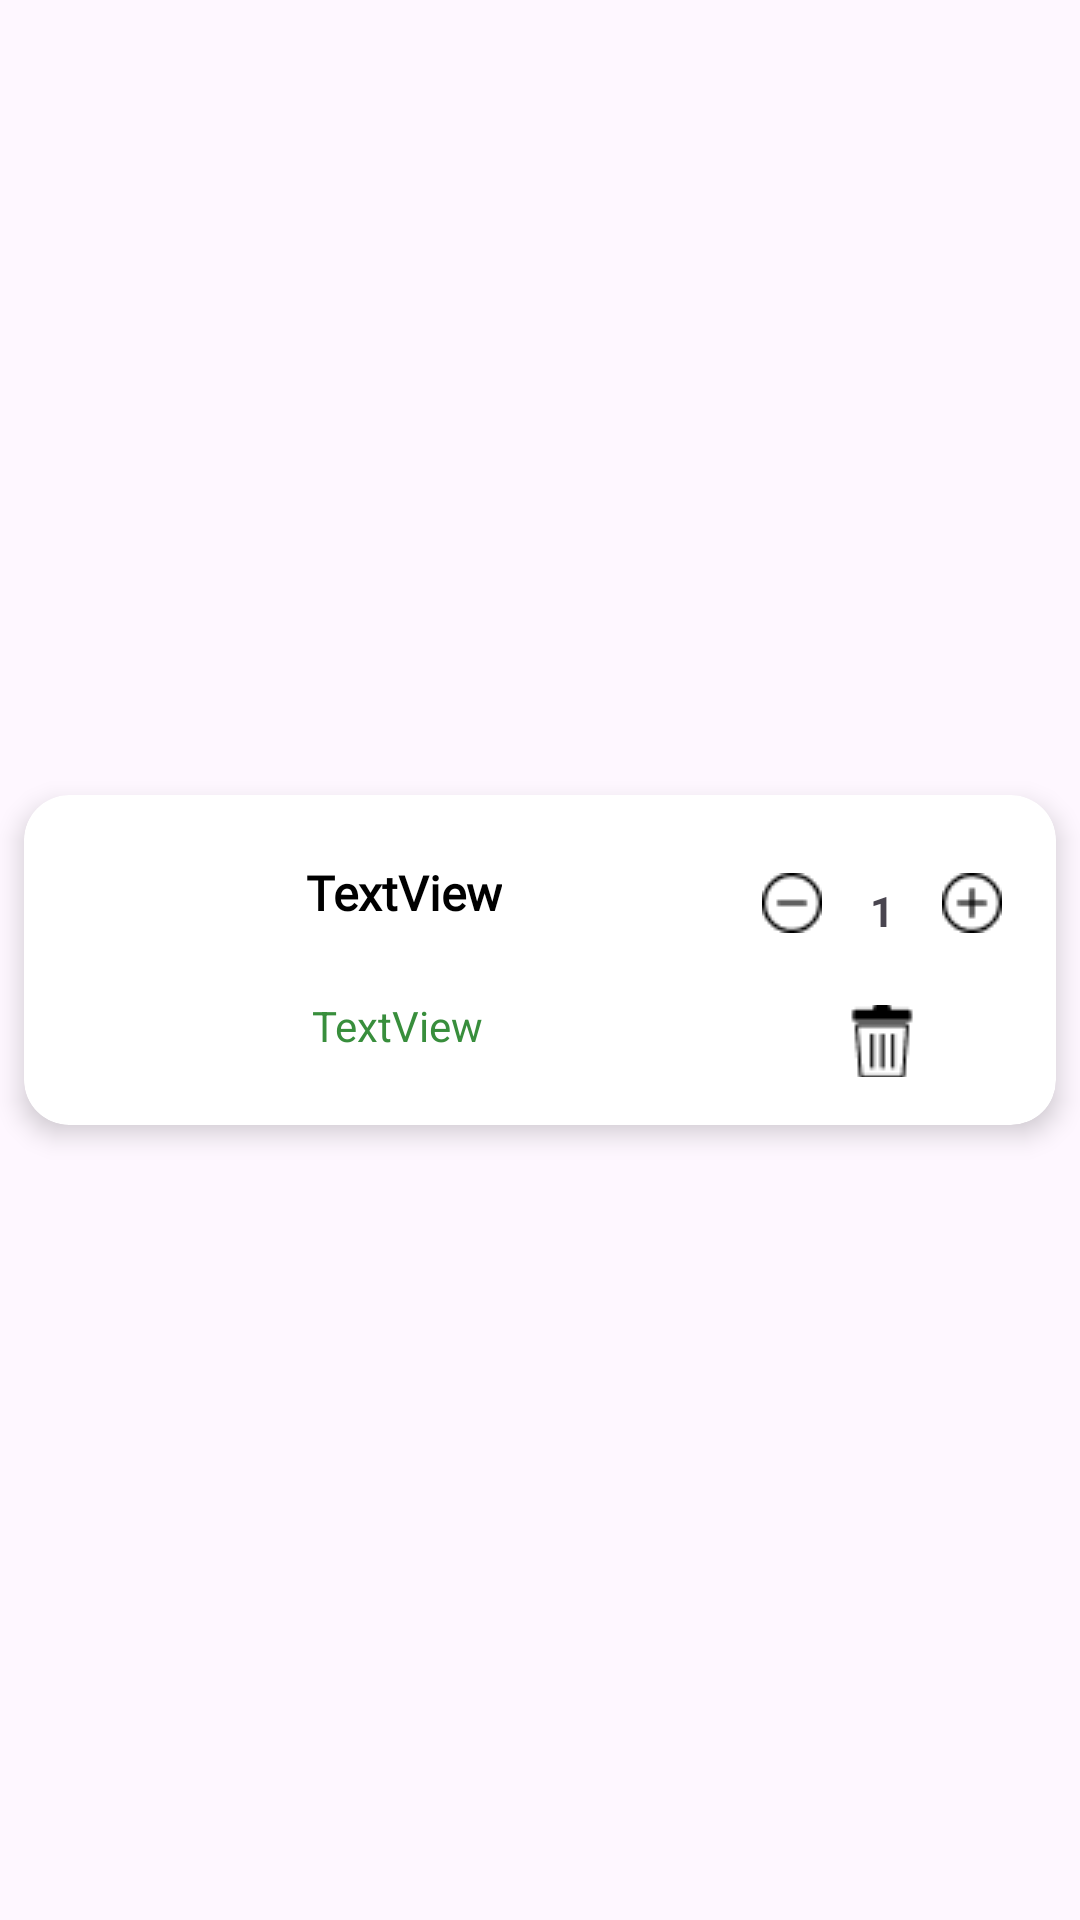

Point at icon controls on the screen. Image size 1080 × 1920, points as [x,y].
delete: [882,1041]
minus: [792,903]
plus: [972,903]
